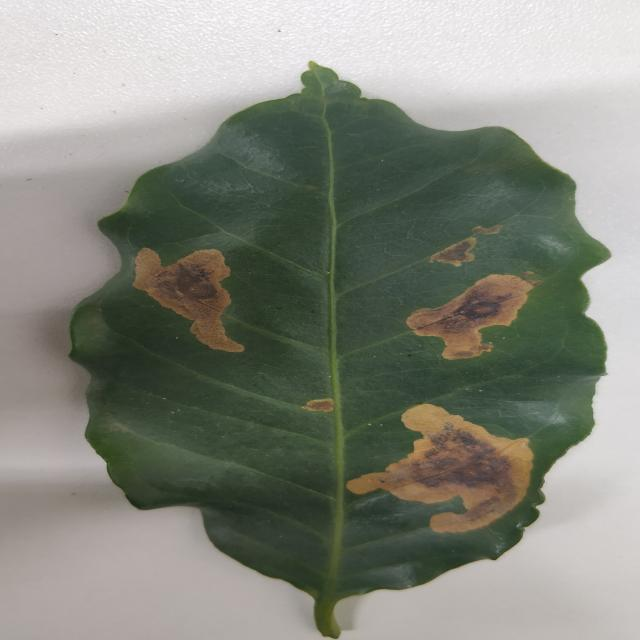Plaga-Minador: (68, 63, 612, 638)
